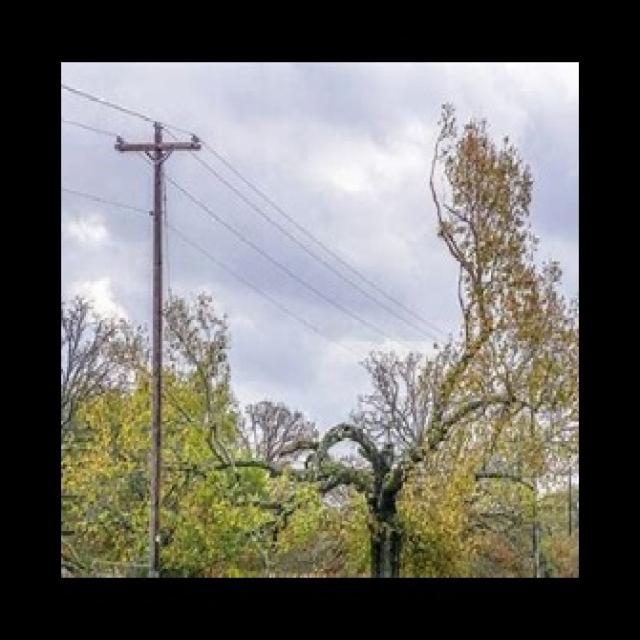utility poles: (110, 114, 205, 570)
